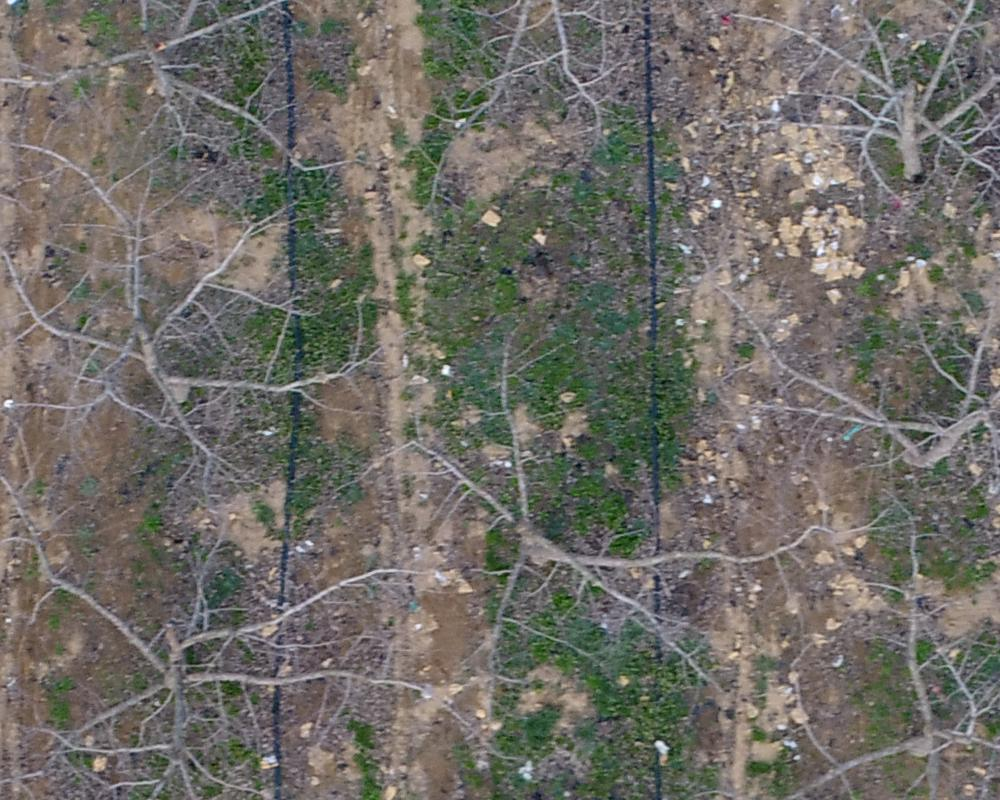apple: (10, 362, 503, 790), (346, 419, 908, 698), (10, 128, 396, 508), (717, 203, 990, 507), (700, 582, 990, 790)
